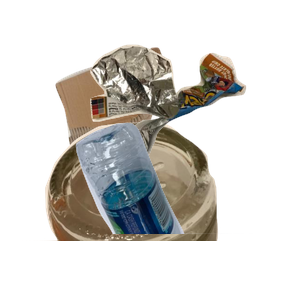cardboard: (53, 45, 221, 204)
glass: (22, 120, 233, 300)
plastic: (73, 120, 300, 300)
trash: (88, 42, 300, 219)
